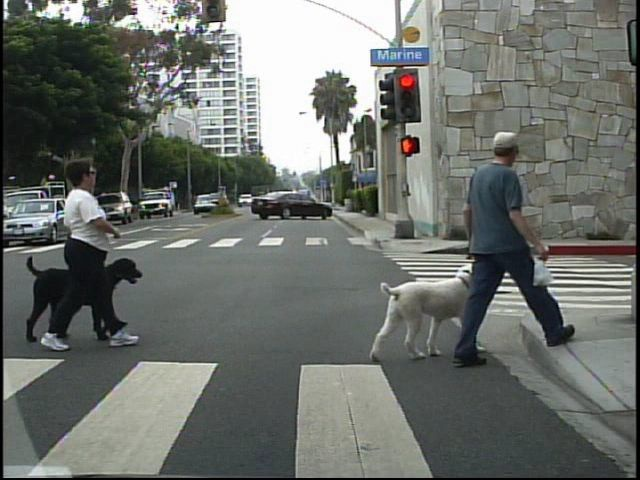person: (443, 117, 560, 368), (43, 150, 118, 354)
